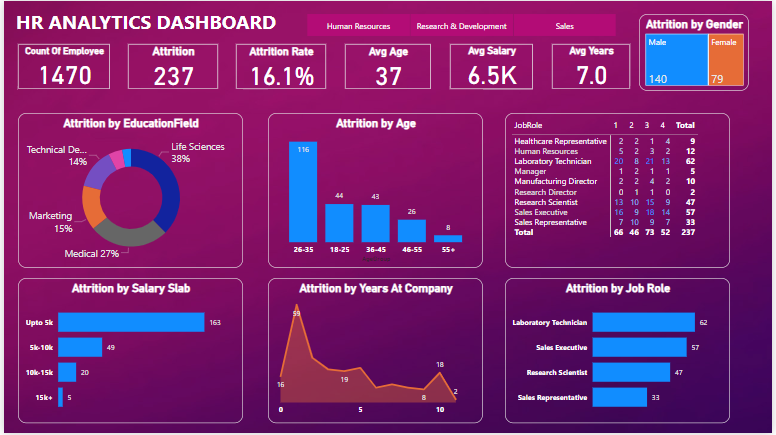

This screenshot's page, from the dashboard's own definition file:
{"tool":"powerbi","page":{"name":"Page 1","canvas":[1280,720],"ordinal":0},"visuals":[{"type":"card","title":"Count Of Employee","fields":{"Values":["CountNonNull(HR_Analytics.EmpID)"]},"box":[23.3,71.7,153.3,75],"z":0},{"type":"card","title":"Attrition","fields":{"Values":["Sum(HR_Analytics.AttritionCount)"]},"box":[206.7,71.7,150,75],"z":1000},{"type":"card","title":"Attrition Rate","fields":{"Values":["HR_Analytics.AttritionRate"]},"box":[386.7,71.7,150,75],"z":2000},{"type":"card","title":"Avg Age","fields":{"Values":["Avg(HR_Analytics.Age)"]},"box":[568.3,71.7,143.3,75],"z":3000},{"type":"card","title":"Avg Salary","fields":{"Values":["Avg(HR_Analytics.MonthlyIncome)"]},"box":[743.3,71.7,138.3,75],"z":4000},{"type":"card","title":"Avg Years","fields":{"Values":["Avg(HR_Analytics.YearsAtCompany)"]},"box":[913.3,71.7,130,75],"z":5000},{"type":"donutChart","title":"Attrition by EducationField","fields":{"Category":["HR_Analytics.EducationField"],"Y":["Sum(HR_Analytics.AttritionCount)"]},"box":[23.3,186.7,375,258.3],"z":6000},{"type":"columnChart","title":"Attrition by Age","fields":{"Category":["HR_Analytics.AgeGroup"],"Y":["Sum(HR_Analytics.AttritionCount)"]},"box":[440,186.7,358.3,258.3],"z":7000},{"type":"pivotTable","fields":{"Rows":["HR_Analytics.JobRole"],"Columns":["HR_Analytics.JobSatisfaction"],"Values":["Sum(HR_Analytics.AttritionCount)"]},"box":[835,186.7,375,258.3],"z":8000},{"type":"barChart","title":"Attrition by Salary Slab","fields":{"Category":["HR_Analytics.SalarySlab"],"Y":["Sum(HR_Analytics.AttritionCount)"]},"box":[23.3,461.7,375,241.7],"z":9000},{"type":"barChart","title":"Attrition by Job Role","fields":{"Y":["Sum(HR_Analytics.AttritionCount)"],"Category":["HR_Analytics.JobRole"]},"box":[835,461.7,375,241.7],"z":10000},{"type":"areaChart","title":"Attrition by Years At Company","fields":{"Category":["HR_Analytics.YearsAtCompany"],"Y":["Sum(HR_Analytics.AttritionCount)"]},"box":[440,461.7,358.3,241.7],"z":11000},{"type":"treemap","title":"Attrition by Gender","fields":{"Group":["HR_Analytics.Gender"],"Values":["Sum(HR_Analytics.AttritionCount)"]},"box":[1058.3,21.7,183.3,128.3],"z":12000},{"type":"textbox","box":[15,6.7,468.3,58.3],"z":14000},{"type":"slicer","fields":{"Values":["HR_Analytics.Department"]},"box":[480,15,563.3,50],"z":14001}]}

Visuals, with their boxes in screenshot pixels (x1, y1, x2, y2), scaled from the page's 1280x720 canvas onto the 776x435 screenshot:
"Count Of Employee" card: rect(14, 43, 107, 89)
"Attrition" card: rect(125, 43, 216, 89)
"Attrition Rate" card: rect(234, 43, 325, 89)
"Avg Age" card: rect(345, 43, 431, 89)
"Avg Salary" card: rect(451, 43, 534, 89)
"Avg Years" card: rect(554, 43, 633, 89)
"Attrition by EducationField" donutChart: rect(14, 113, 241, 269)
"Attrition by Age" columnChart: rect(267, 113, 484, 269)
pivotTable - HR_Analytics.JobRole x HR_Analytics.JobSatisfaction: rect(506, 113, 734, 269)
"Attrition by Salary Slab" barChart: rect(14, 279, 241, 425)
"Attrition by Job Role" barChart: rect(506, 279, 734, 425)
"Attrition by Years At Company" areaChart: rect(267, 279, 484, 425)
"Attrition by Gender" treemap: rect(642, 13, 753, 91)
textbox: rect(9, 4, 293, 39)
slicer - HR_Analytics.Department: rect(291, 9, 633, 39)
